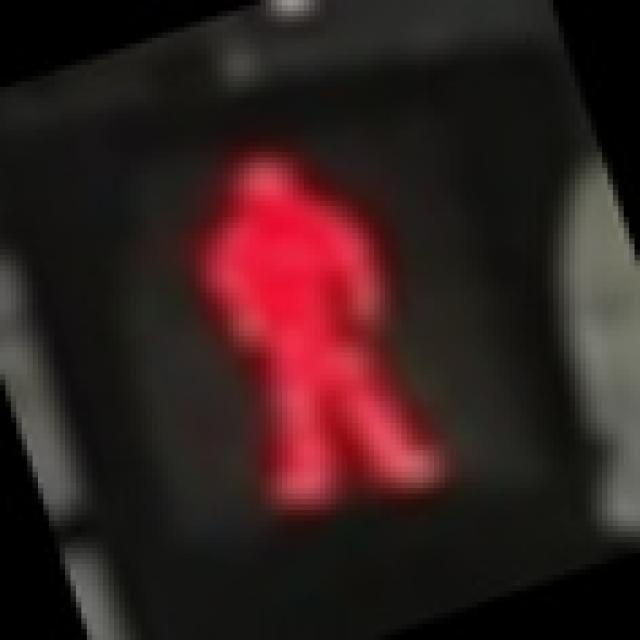red-crossing: (92, 59, 532, 564)
